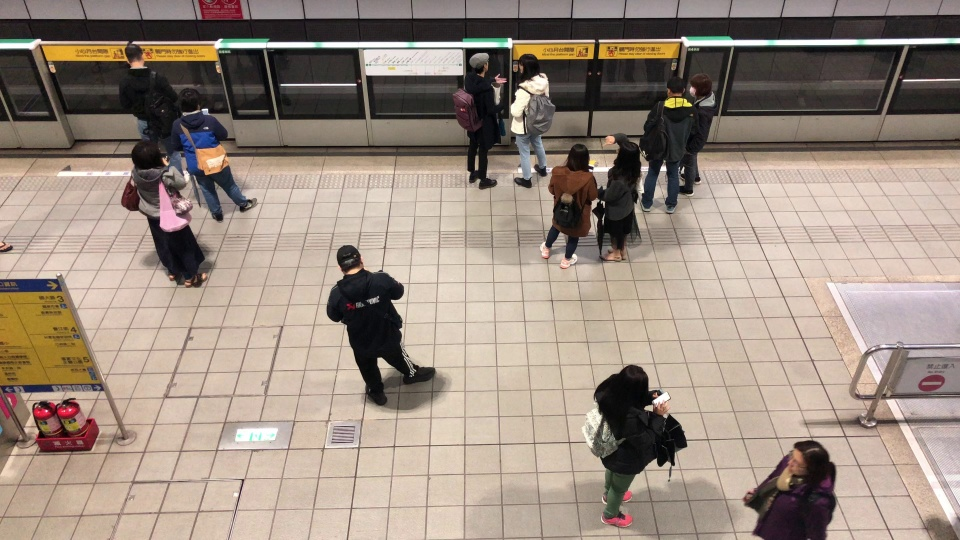person_head: (786, 440, 828, 493), (619, 365, 649, 410), (615, 141, 639, 189), (130, 138, 162, 170), (335, 244, 363, 279), (560, 143, 589, 172), (689, 72, 711, 98), (122, 43, 140, 70), (177, 88, 196, 113), (515, 54, 535, 77), (469, 52, 488, 74), (667, 77, 685, 94)
person_vbox: (326, 244, 436, 405), (594, 364, 671, 528), (171, 85, 259, 221), (130, 138, 207, 286), (120, 43, 190, 191), (741, 439, 836, 540), (641, 76, 700, 214), (538, 140, 597, 272), (594, 132, 641, 261), (465, 53, 507, 189), (510, 54, 549, 189), (677, 70, 716, 196)
